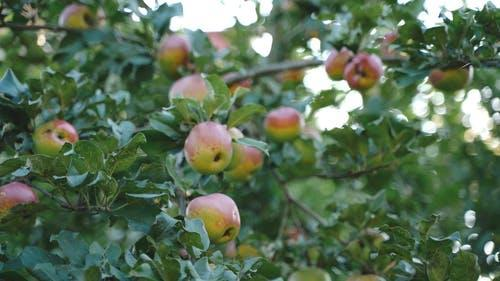apple: (184, 192, 242, 247), (184, 122, 232, 175), (223, 139, 265, 182), (31, 118, 77, 157), (342, 53, 382, 91)
